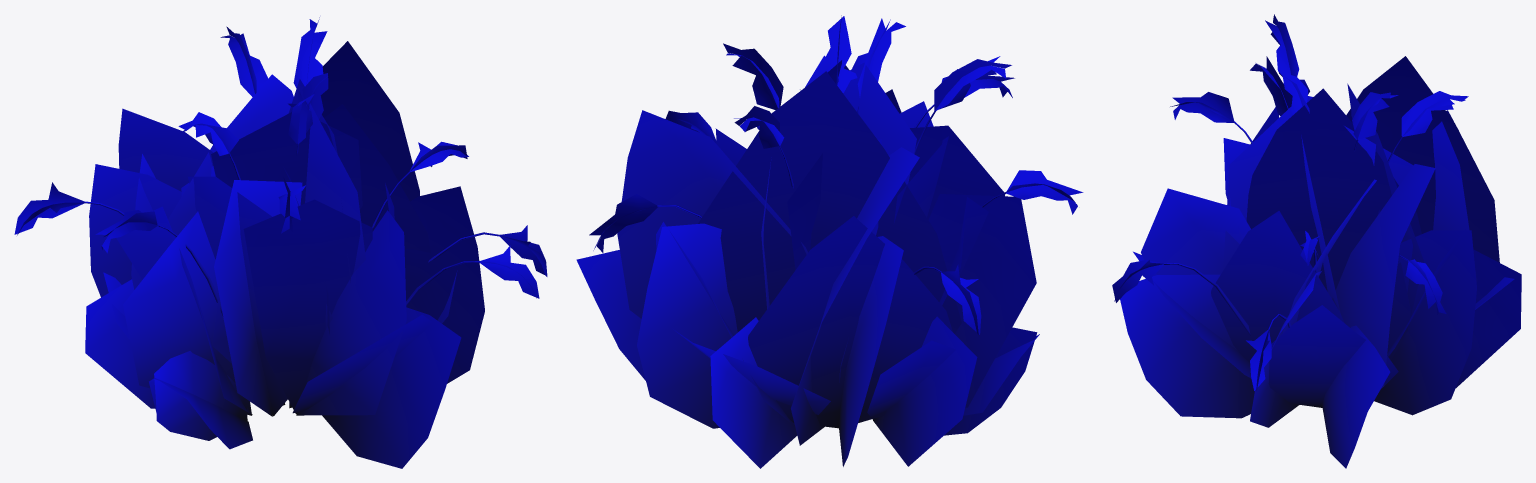
Rendered from SM_WildGrass_M_01.fbx.
3 views of the same model, side by side, from view 1: azimuth 30°, elevation 25°; view 2: azimuth 150°, elevation 25°; view 3: azimuth 270°, elevation 25° (orthographic). The views are drawn at different scales.
Visible parts, largest first — view 1: SM_WildGrass_M_01_LOD0; view 2: SM_WildGrass_M_01_LOD0; view 3: SM_WildGrass_M_01_LOD0.
Boxes of the visible parts, x1,y1,x2,y2 form: SM_WildGrass_M_01_LOD0: [14, 17, 547, 468]; SM_WildGrass_M_01_LOD0: [576, 15, 1083, 468]; SM_WildGrass_M_01_LOD0: [1112, 14, 1521, 468].
Bounding box in the file's own units: 113 × 101 × 93.72.
